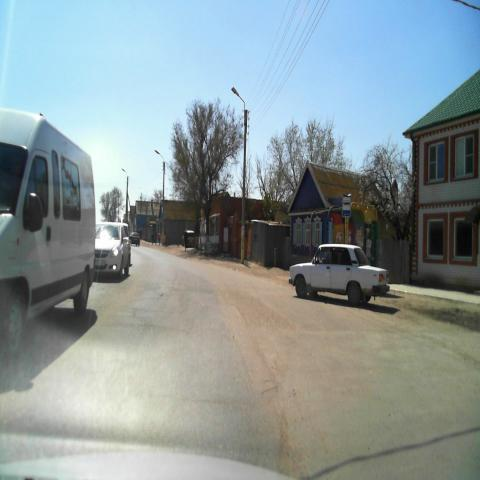5_16: (341, 195, 351, 217)
